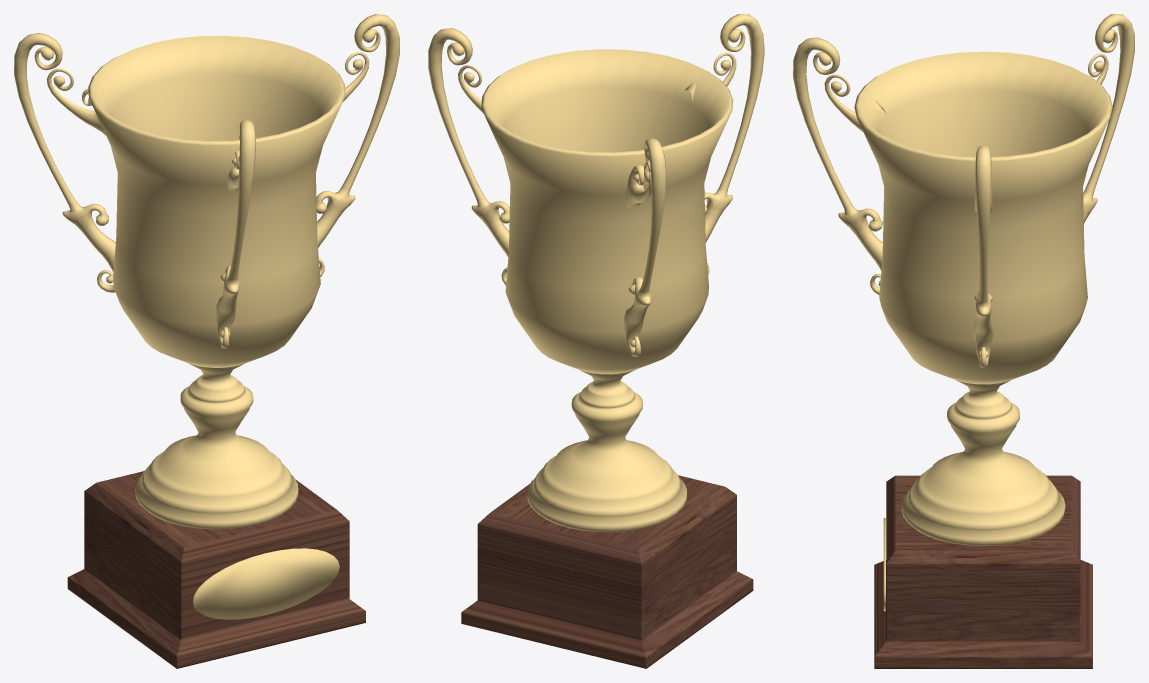
Rendered from Trophy.fbx.
The picture shows the model from 3 angles, left to right: view 1: azimuth 30°, elevation 25°; view 2: azimuth 150°, elevation 25°; view 3: azimuth 270°, elevation 25°; orthographic projection. The views are drawn at different scales.
Parts seen in each view (by area): view 1: Trophy; view 2: Trophy; view 3: Trophy.
Boxes of the visible parts, x1=… form: Trophy: x1=14, y1=14, x2=399, y2=668; Trophy: x1=428, y1=14, x2=764, y2=668; Trophy: x1=793, y1=14, x2=1134, y2=668.
Size of the model in its own units: 268 by 457 by 253.
